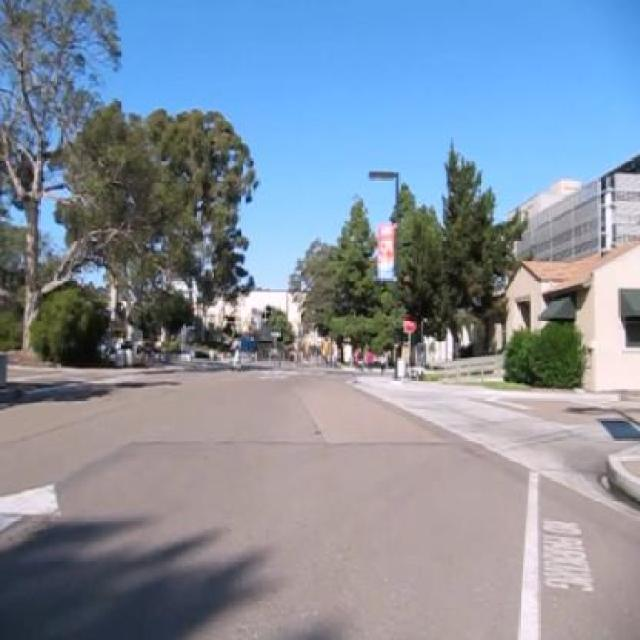stop: (403, 312, 419, 332)
